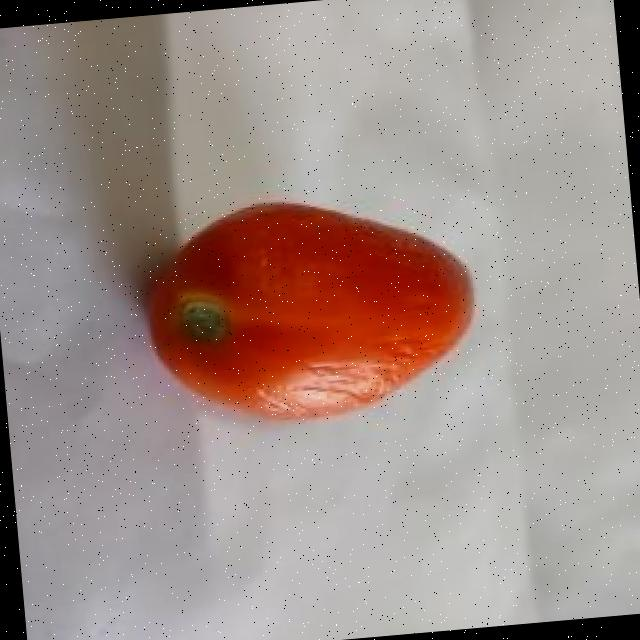overripe: (134, 176, 492, 437)
